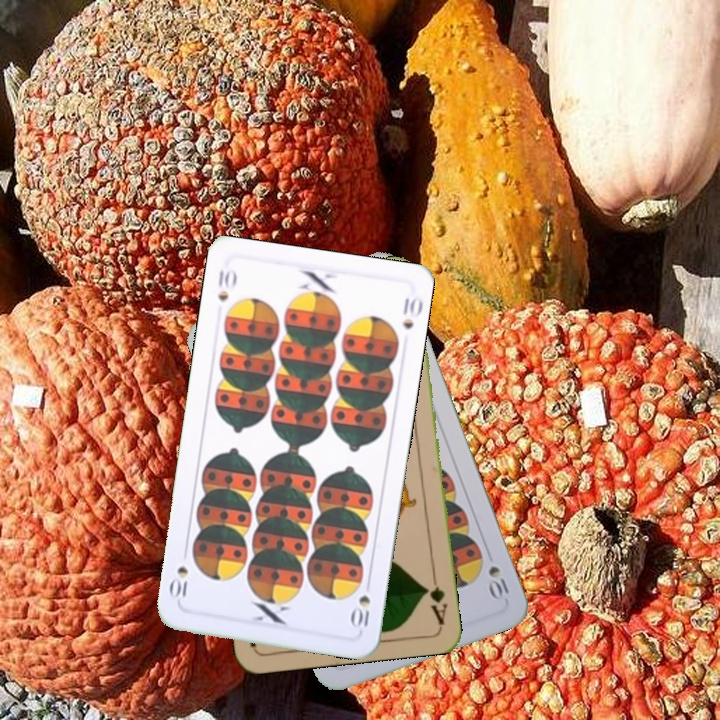GA: (421, 568, 450, 627)
S10: (347, 575, 374, 631), (484, 561, 513, 603), (213, 266, 239, 305)
